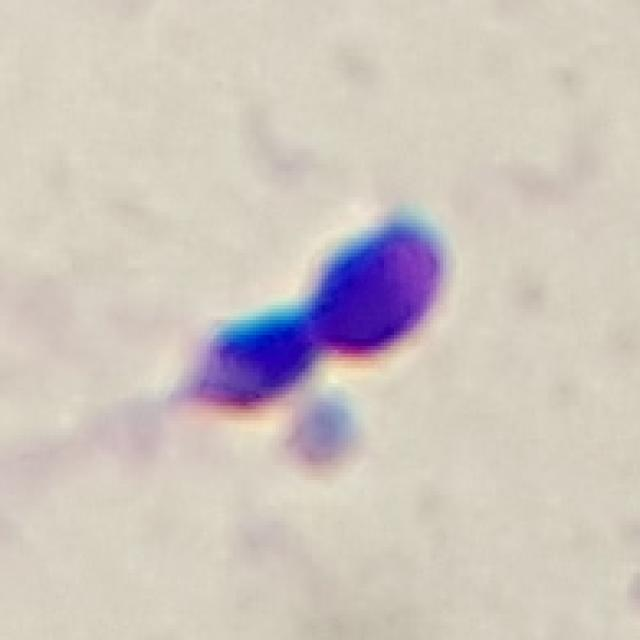abnormal sperm: (102, 208, 444, 458)
